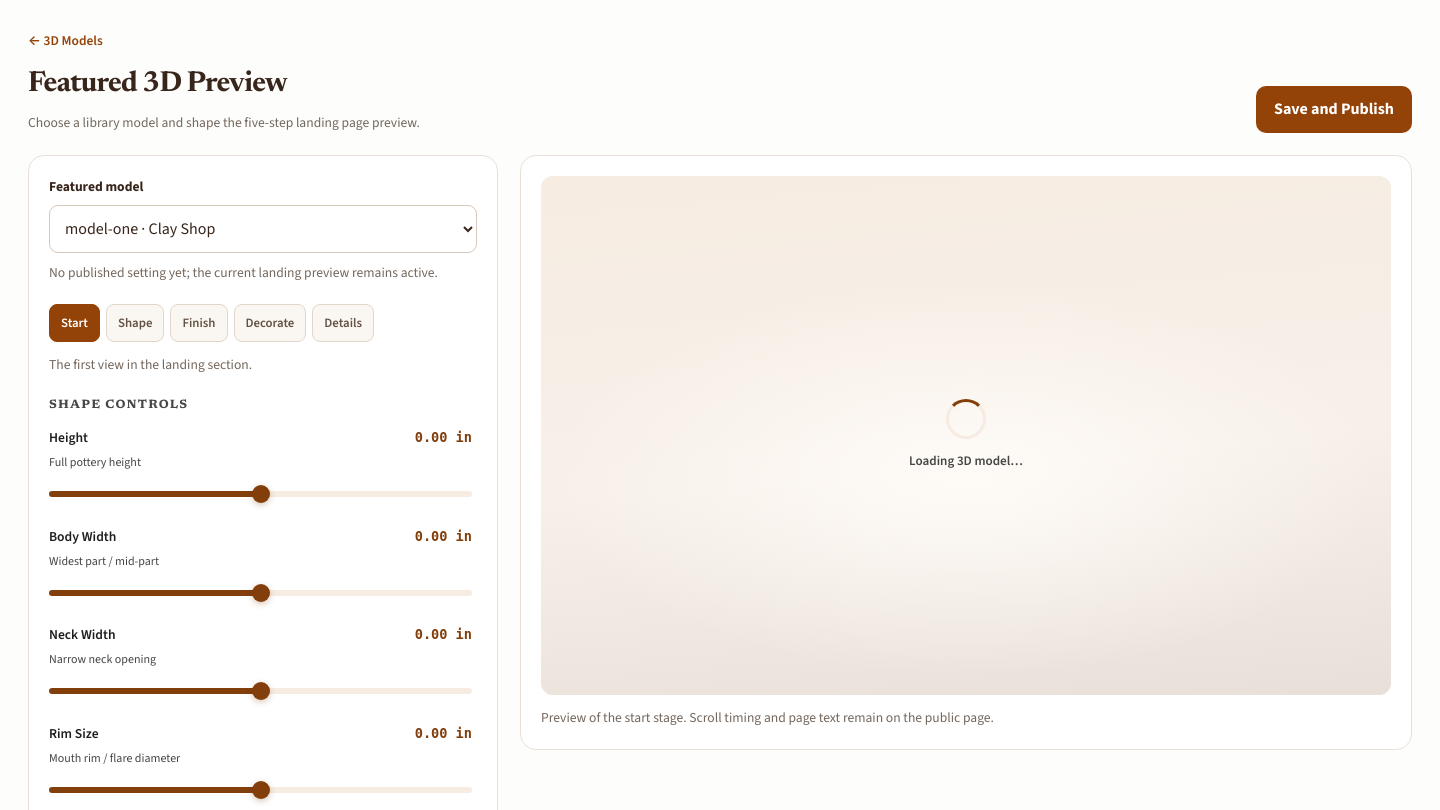
Test case: Featured 3D Preview admin page › does not publish a model that was archived after the editor loaded
The image size is (1440, 810).
Expected: the dropdown labelled "Featured model" is shown, [49,205,477,253]
Click the button "Save and Publish" at (1334, 110), box [1256,86,1412,133]
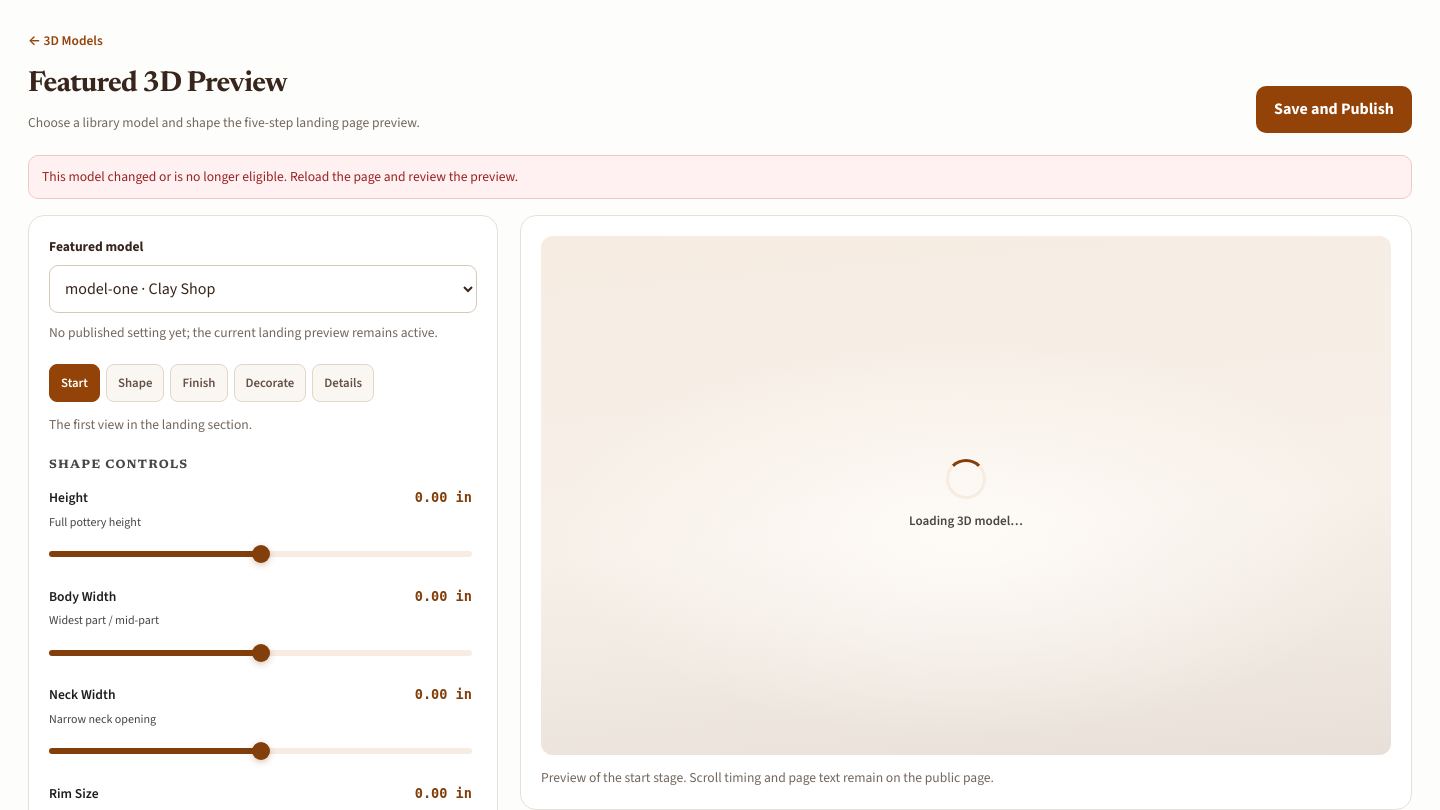
Now the 1st message shows "no longer eligible", box [42,167,518,186]
